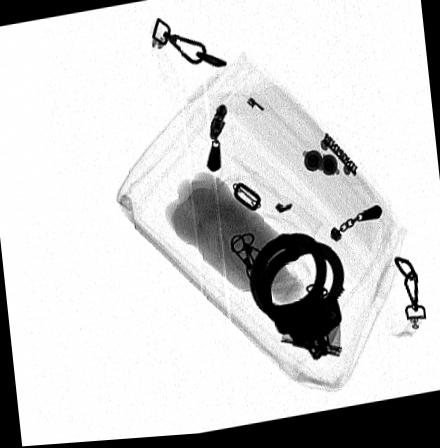HandCuffs: (249, 236, 345, 365)
